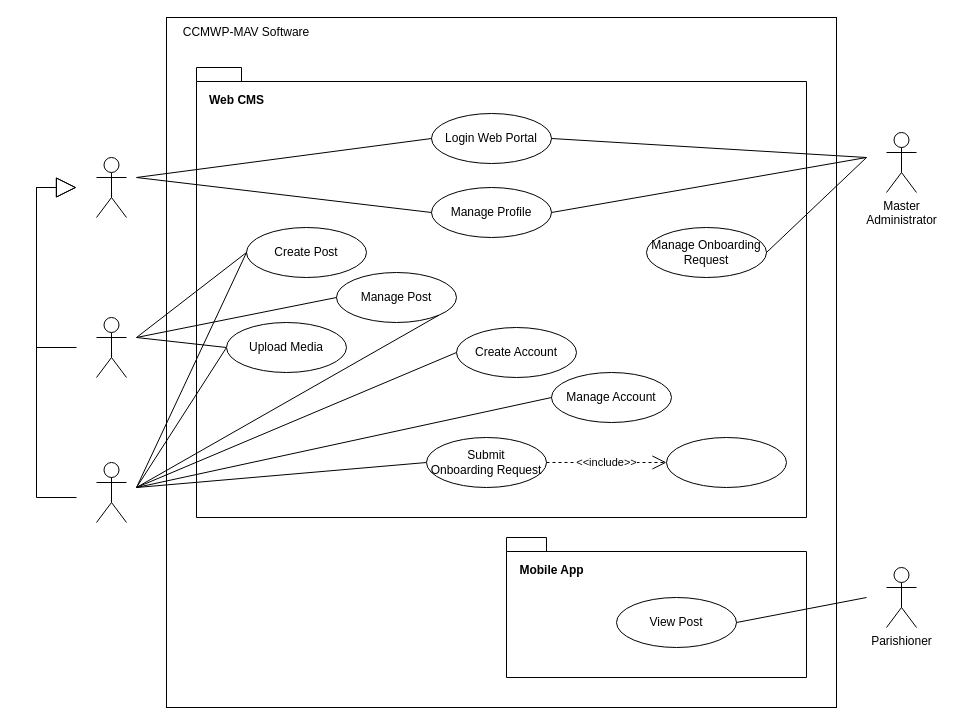
This 954x725 diagram has some shape labels left out. The shapes that lost their labels are listed below. From the top down, each one's centre as x and y in pixels, then its label:
At [111,187]: "Church Staff".
At [111,347]: "Church Administrator".
At [726,462]: "Submit Proof of Document".
At [111,492]: "Super Administrator".
